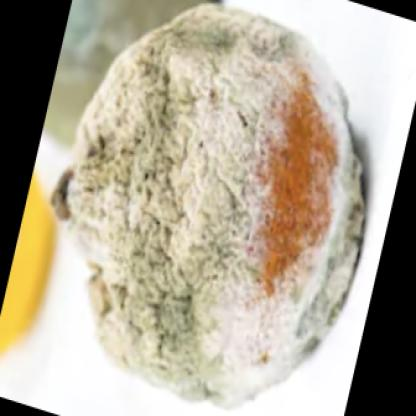rotten: (54, 4, 365, 405)
